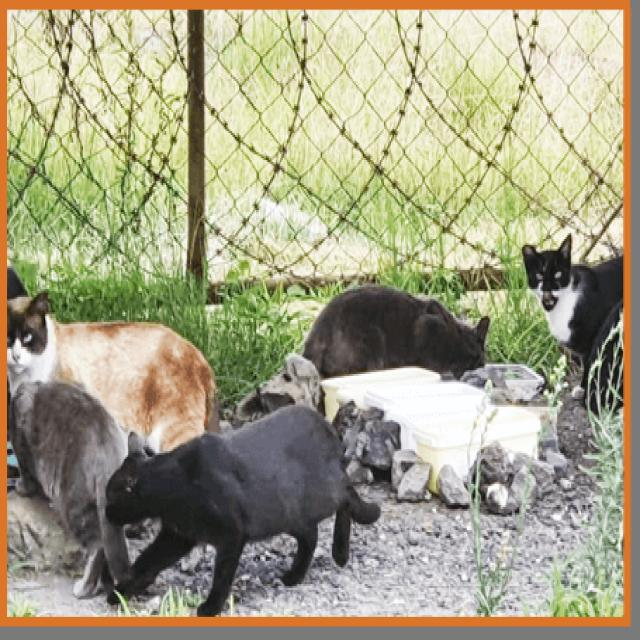cat: (106, 406, 380, 614), (8, 291, 215, 450), (9, 384, 130, 597), (523, 235, 622, 410), (304, 286, 487, 378)
